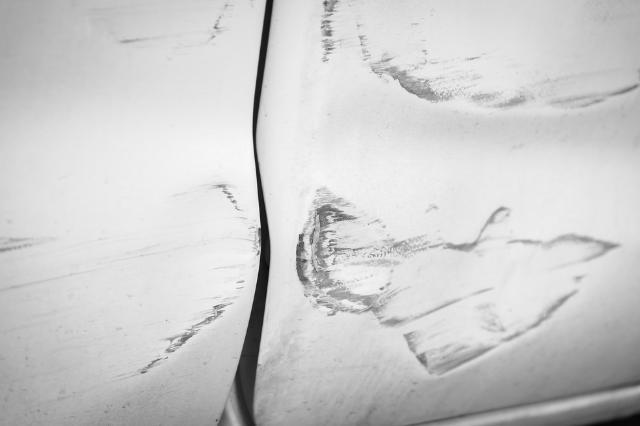Door: (266, 0, 640, 393), (2, 1, 248, 415)
